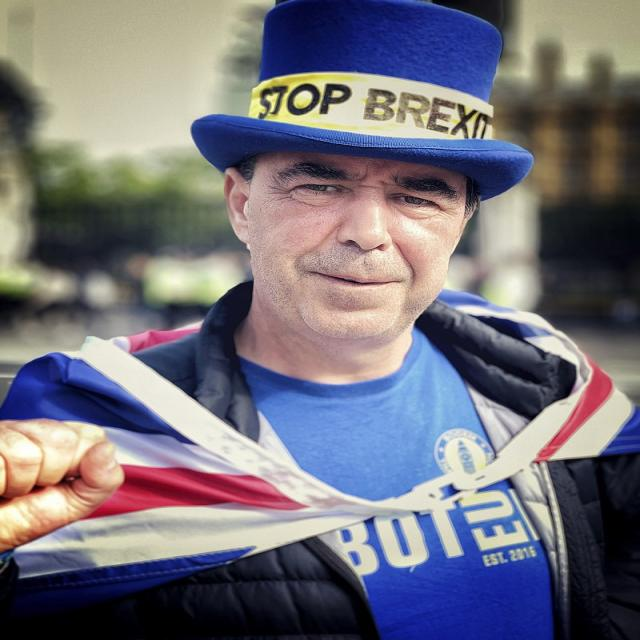hat: (179, 4, 542, 204)
